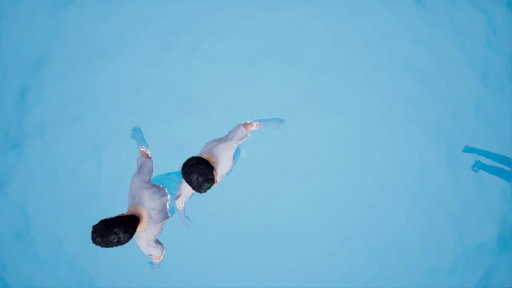person: (87, 110, 292, 263)
